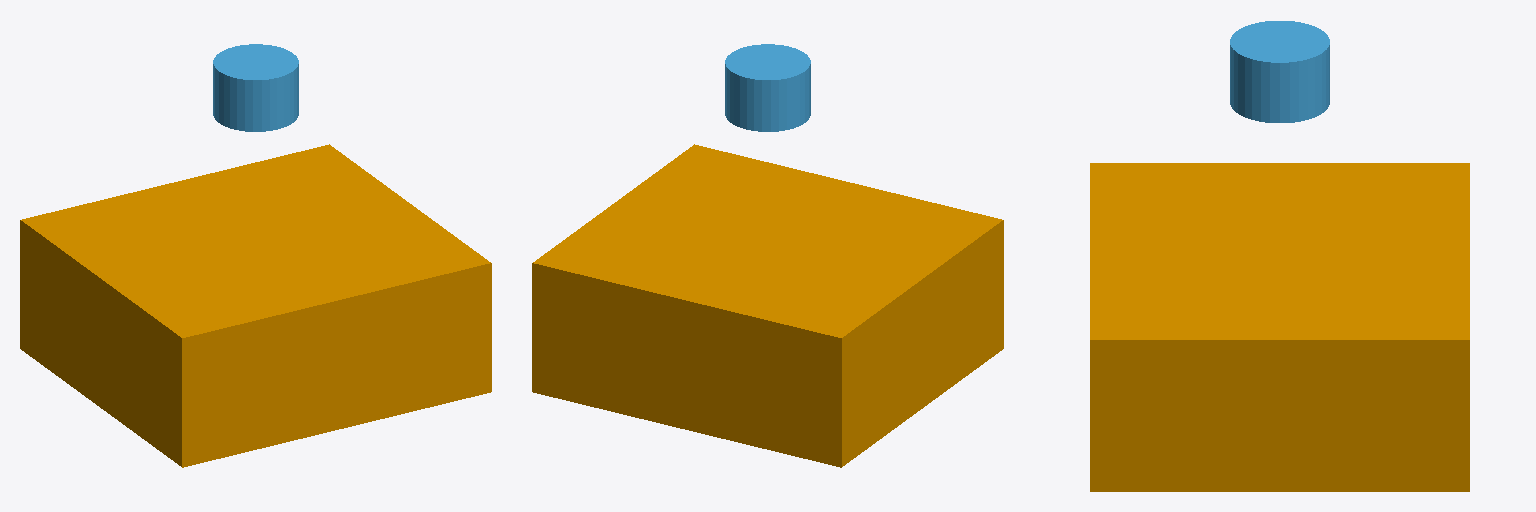
The robot description file, URDF, robot "wave_rover":
<?xml version="1.0"?>
<robot name="wave_rover">

  <!--
    Waveshare UGV02 chassis. All dimensions measured in Session 013.
      chassis width   0.227 m
      chassis length  0.250 m
      track width     0.174 m   (front wheel contact patch to contact patch)
      lidar height    0.180 m   from floor
  -->

  <link name="base_link">
    <visual>
      <geometry>
        <box size="0.250 0.227 0.100"/>
      </geometry>
    </visual>
  </link>

  <link name="laser">
    <visual>
      <geometry>
        <cylinder length="0.04" radius="0.03"/>
      </geometry>
    </visual>
  </link>

  <!--
    Session 013: yaw corrected from 0 to pi.
    The RPLidar C1 is mounted with its 0-bearing beam pointing toward the
    rover's REAR. Confirmed empirically: with a wall 3.00 m ahead and a
    second wall 0.113 m behind, /scan reported the 3 m surface as a
    coherent 38 deg arc spanning +/-180 deg, and the 0.113 m surface
    across the forward arc with a textbook 1/cos(theta) slant-range
    profile (agreement within 5 mm out to 55 deg).
    Previously rpy="0 0 0", which told the TF tree the laser faced
    forward. SLAM and RF2O were unaffected because every consumer was
    consistently wrong together, but Nav2 would have driven the rover
    backward along its planned path.

    FRAME CONVENTION (resolved Session 013): base_link sits at the
    chassis underside, the ground-clearance plane, 11.5 mm above the
    floor. The lidar measures 180 mm from the floor, so the joint offset
    is 180 - 11.5 = 168.5 mm. This recovers the provenance of the 0.1685
    value, which predates this session and had no recorded datum.

    Physical reference heights, for future measurements:
      chassis underside (= base_link)    11.5 mm from floor
      chassis mid-height                 45.0 mm from floor
      full-stack mid-height (Jetson)     90.0 mm from floor
      lidar plane                       180.0 mm from floor

    Lidar, IMU and Jetson are all centred over the chassis, so x and y
    offsets are zero by construction (confirmed Session 013).
  -->
  <joint name="base_to_laser" type="fixed">
    <parent link="base_link"/>
    <child link="laser"/>
    <origin xyz="0.0 0.0 0.1685" rpy="0 0 3.14159265"/>
  </joint>

</robot>

--- Facts derived from the render (not from the file) ---
3 views of the same robot in one strip: view 1: azimuth 30°, elevation 25°; view 2: azimuth 150°, elevation 25°; view 3: azimuth 270°, elevation 25° (orthographic).
Robot: wave_rover — 2 links, 1 joints (1 fixed); root link base_link; default pose: all joints at 0.
Visible links, largest first — view 1: base_link, laser; view 2: base_link, laser; view 3: base_link, laser.
Link boxes in pixels (x1,y1,x2,y2): base_link: (20, 144, 491, 467); laser: (213, 44, 298, 131); base_link: (532, 144, 1003, 467); laser: (725, 44, 810, 131); base_link: (1090, 163, 1469, 491); laser: (1230, 21, 1329, 122).
Size in the robot's own frame: 0.25 by 0.227 by 0.2385 metres.
Geometry: primitives only (box / cylinder / sphere), no mesh files.
